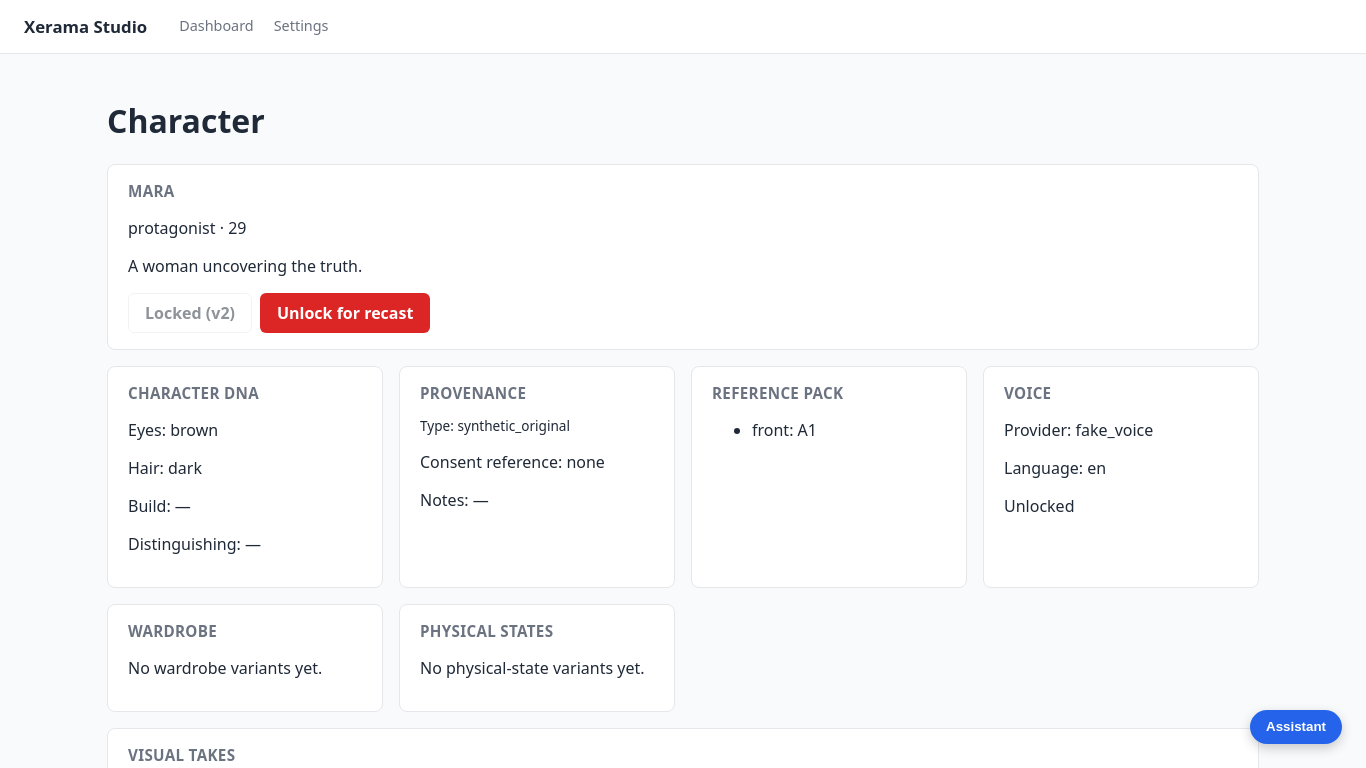
Test: Character Studio (MODULE-058) › shows a stale-asset warning before confirming a recast on a locked character
Click the button "Unlock for recast" at (345, 313), box [260,293,430,333]
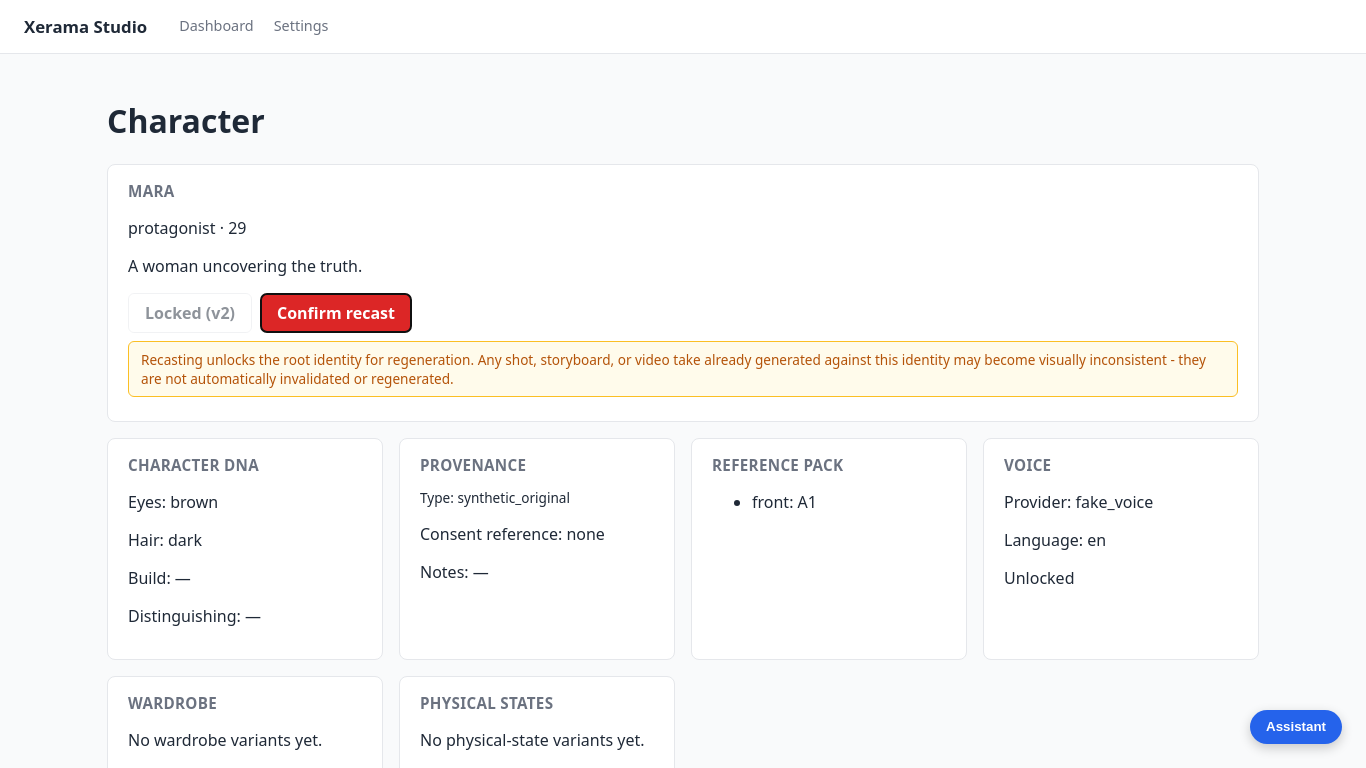
Expected: the text "may become visually inconsistent" is shown, [141,350,1206,388]
Expected: the button "Confirm recast" is shown, [260,293,412,333]
